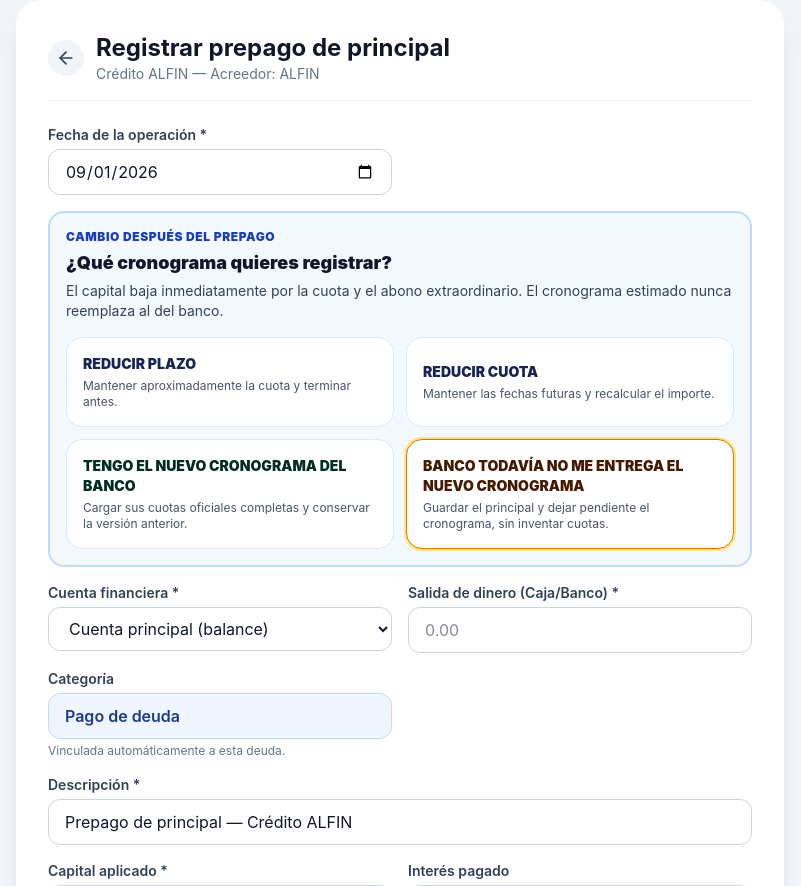
bank prepayment UX › keeps the four new cards as the only prepayment SSOT
This screenshot has width=801, height=886.
Expected: the button "REDUCIR CUOTA" is shown, top-left (406, 337), bottom-right (734, 427)
Expected: the button "TENGO EL NUEVO CRONOGRAMA DEL BANCO" is shown, top-left (66, 439), bottom-right (394, 549)
Click the button "REDUCIR PLAZO" at (230, 382), box top-left (66, 337), bottom-right (394, 427)
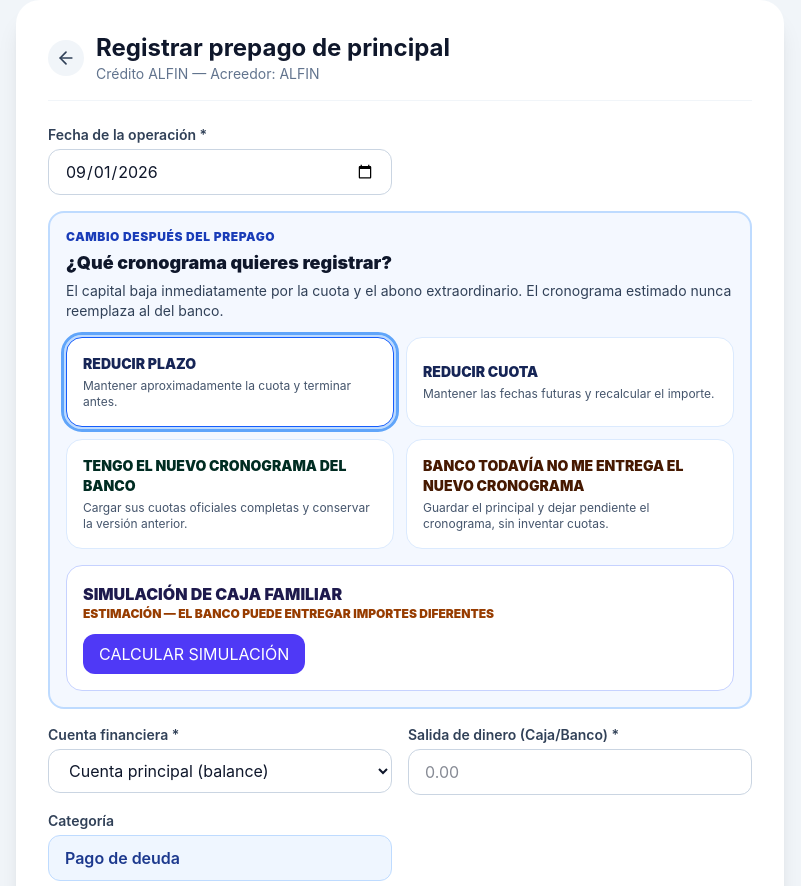
Expected: the button "REDUCIR PLAZO" is pressed, top-left (66, 337), bottom-right (394, 427)
Click the button "REDUCIR CUOTA" at (481, 372), box top-left (406, 337), bottom-right (734, 427)
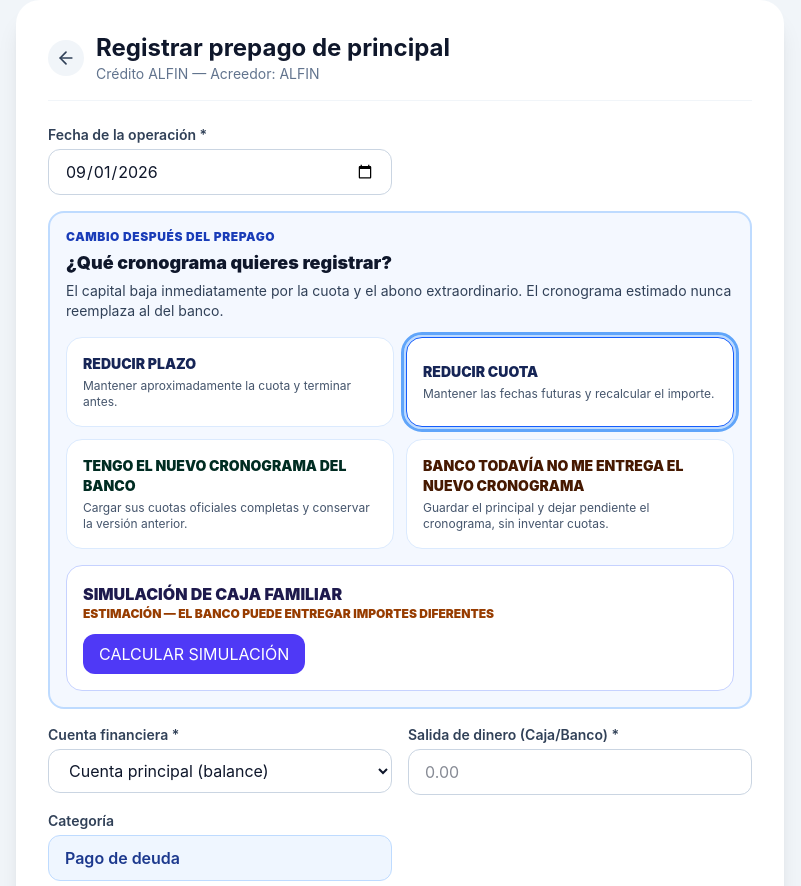
Expected: the button "REDUCIR CUOTA" is pressed, top-left (406, 337), bottom-right (734, 427)
Click the button "BANCO TODAVÍA NO ME ENTREGA" at (570, 494), box top-left (406, 439), bottom-right (734, 549)
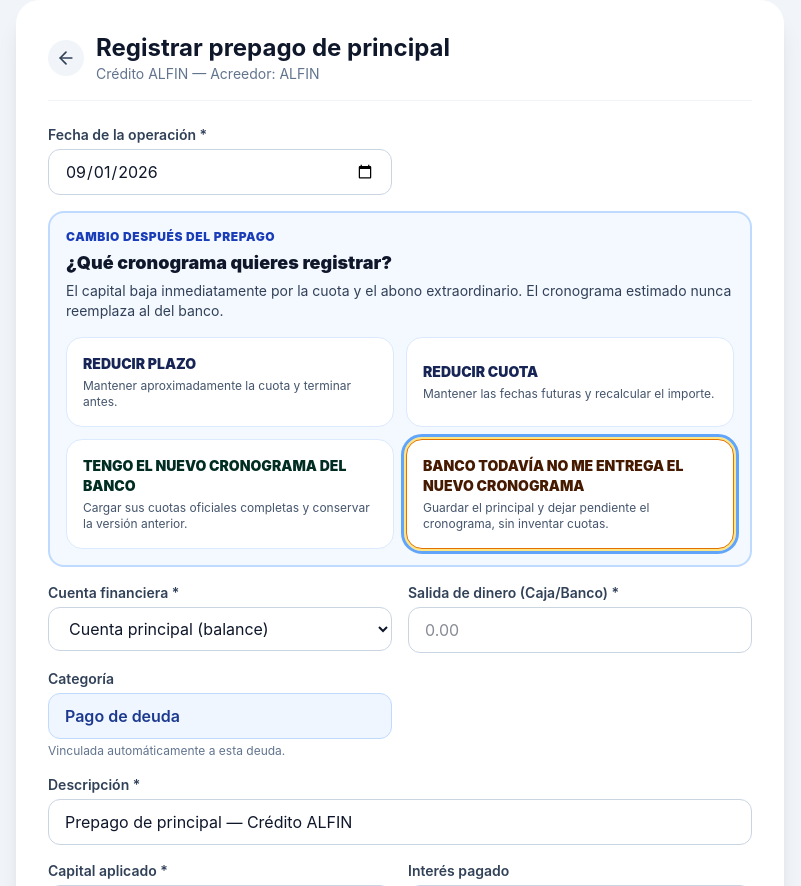
Expected: the heading "SIMULACIÓN DE CAJA FAMILIAR" is gone
